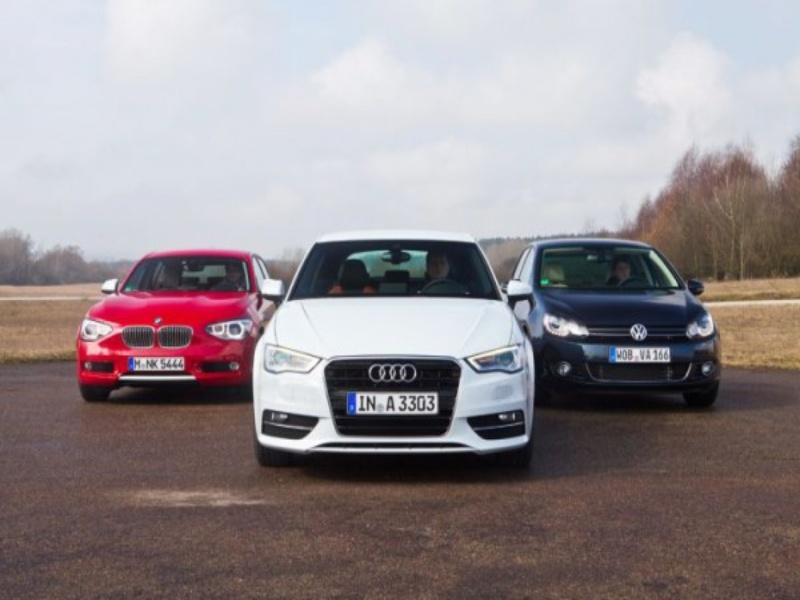car: (253, 235, 535, 470), (505, 239, 719, 409), (78, 251, 276, 399)
person: (426, 249, 450, 280), (612, 256, 633, 281), (224, 263, 242, 284)
plate: (347, 392, 437, 417), (609, 346, 671, 363), (128, 356, 183, 372)
